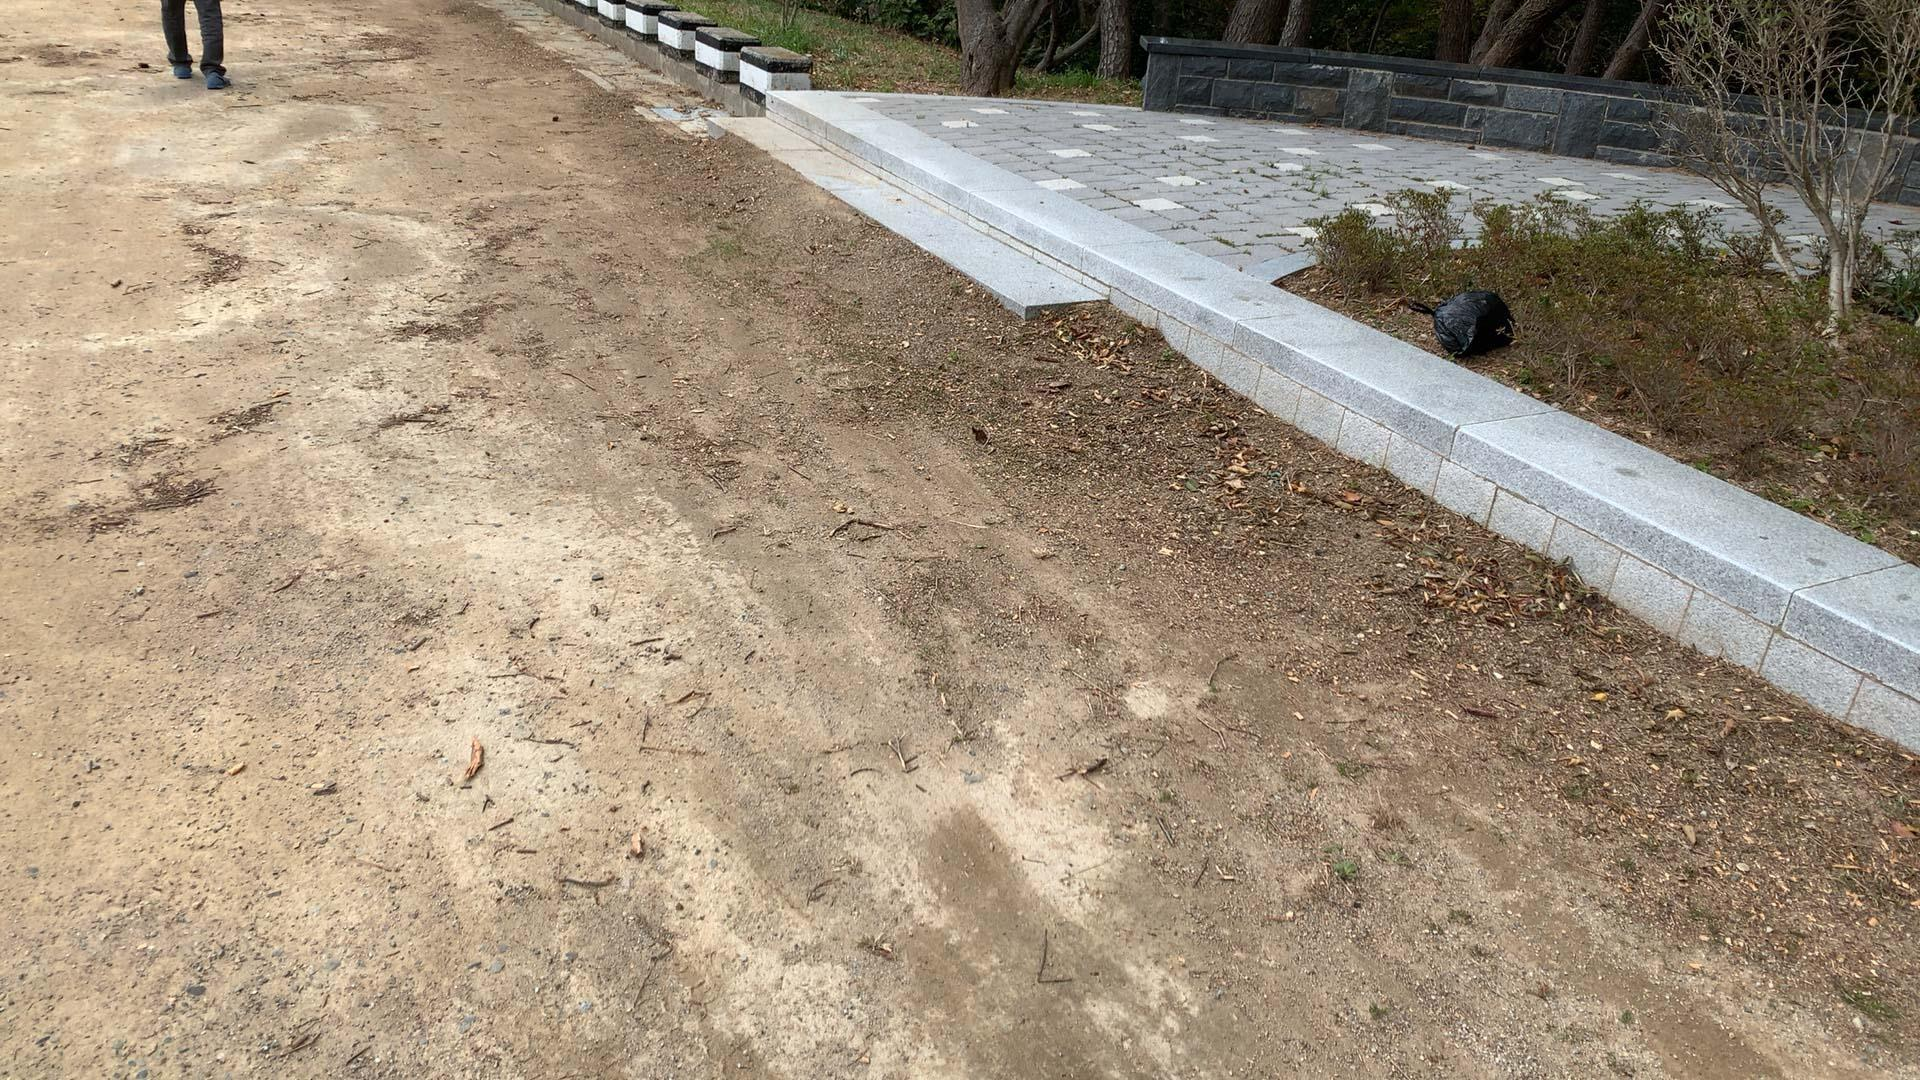white_bag: (1403, 280, 1520, 360)
